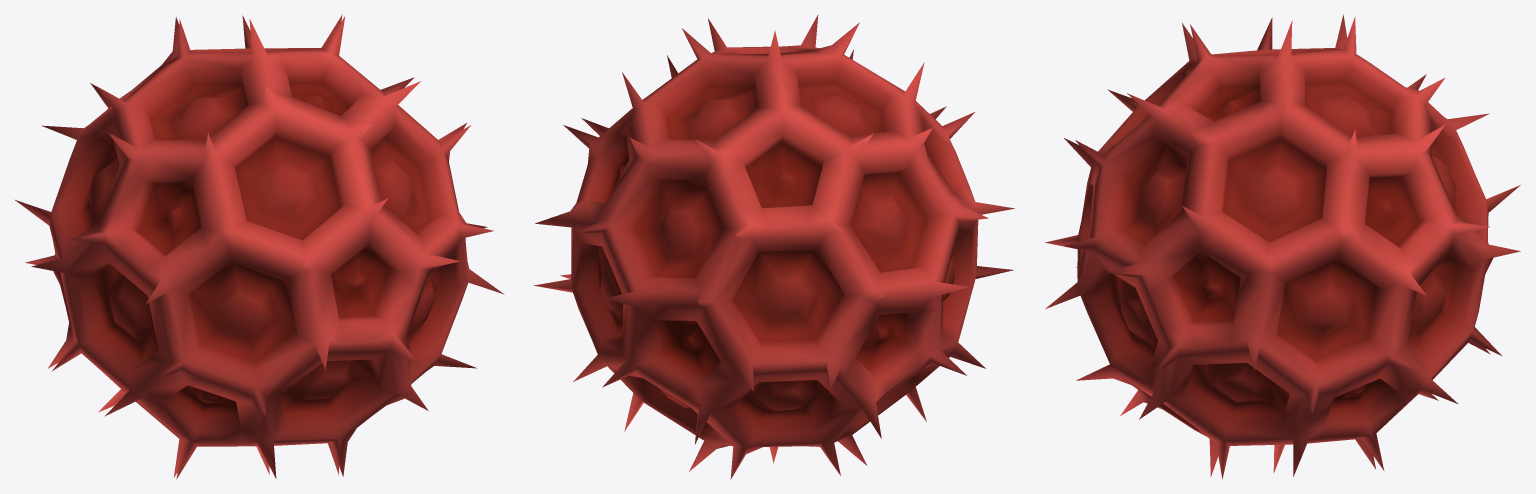
File: microscopic-pollen-spores-pitted-pollen_v1.glb
3 views of the same model, side by side, from view 1: azimuth 30°, elevation 25°; view 2: azimuth 150°, elevation 25°; view 3: azimuth 270°, elevation 25° (orthographic). The views are drawn at different scales.
Parts seen in each view (by area): view 1: Pitted Pollen; view 2: Pitted Pollen; view 3: Pitted Pollen.
Boxes of the visible parts, left/top/right/bottom form: Pitted Pollen: left=14, top=14, right=504, bottom=479; Pitted Pollen: left=534, top=14, right=1014, bottom=479; Pitted Pollen: left=1045, top=14, right=1520, bottom=479.
Size of the model in its own units: 0.3958 by 0.4 by 0.3857.
